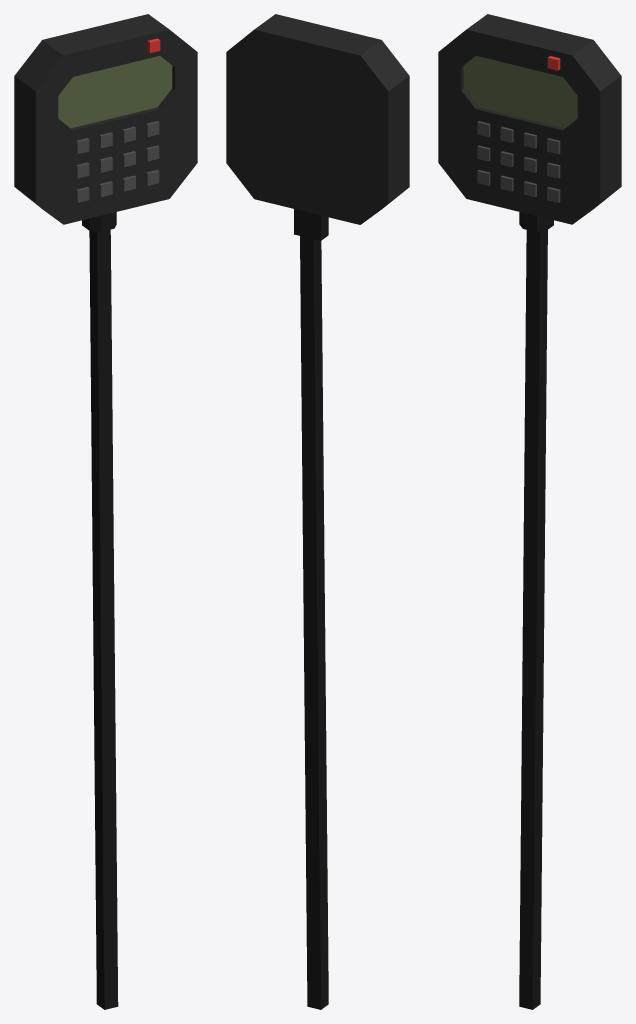
The model's file is SM_BuildingsDecor_08.fbx.
3 renders of one model, left to right at view 1: azimuth 30°, elevation 25°; view 2: azimuth 150°, elevation 25°; view 3: azimuth 330°, elevation 25°, orthographic.
Parts seen in each view (by area): view 1: SM_BuildingsDecor_08; view 2: SM_BuildingsDecor_08; view 3: SM_BuildingsDecor_08.
Boxes of the visible parts, <box> form: SM_BuildingsDecor_08: <box>14,14,197,1009</box>; SM_BuildingsDecor_08: <box>226,14,409,1009</box>; SM_BuildingsDecor_08: <box>438,14,621,1009</box>.
Size of the model in its own units: 0.2616 by 1.5 by 0.0668.
